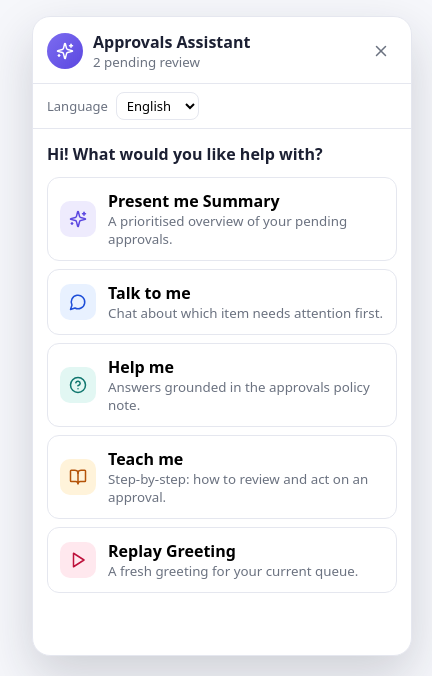
Test: conversation actions › sends the chosen language with each request
Select "Hindi" in the dropdown labelled "Language" at [157, 106], box 116,92 -> 199,120
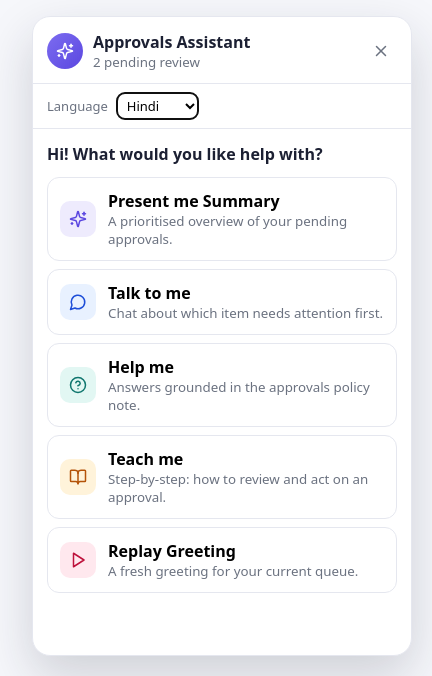
Click the button "Replay Greeting A fresh greeting for your current queue." at [222, 560], box 47,527 -> 397,593
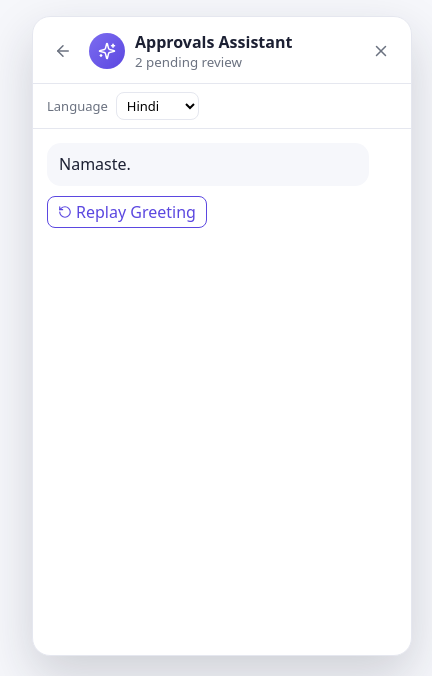
expect the text "Namaste." is shown: met, box 47,143 -> 369,186
